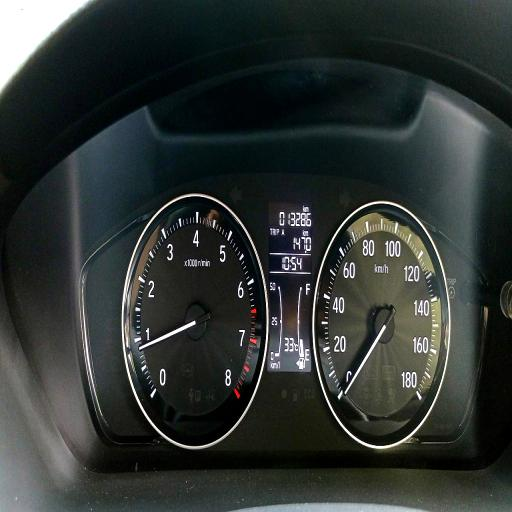tachometer: (121, 190, 268, 448)
